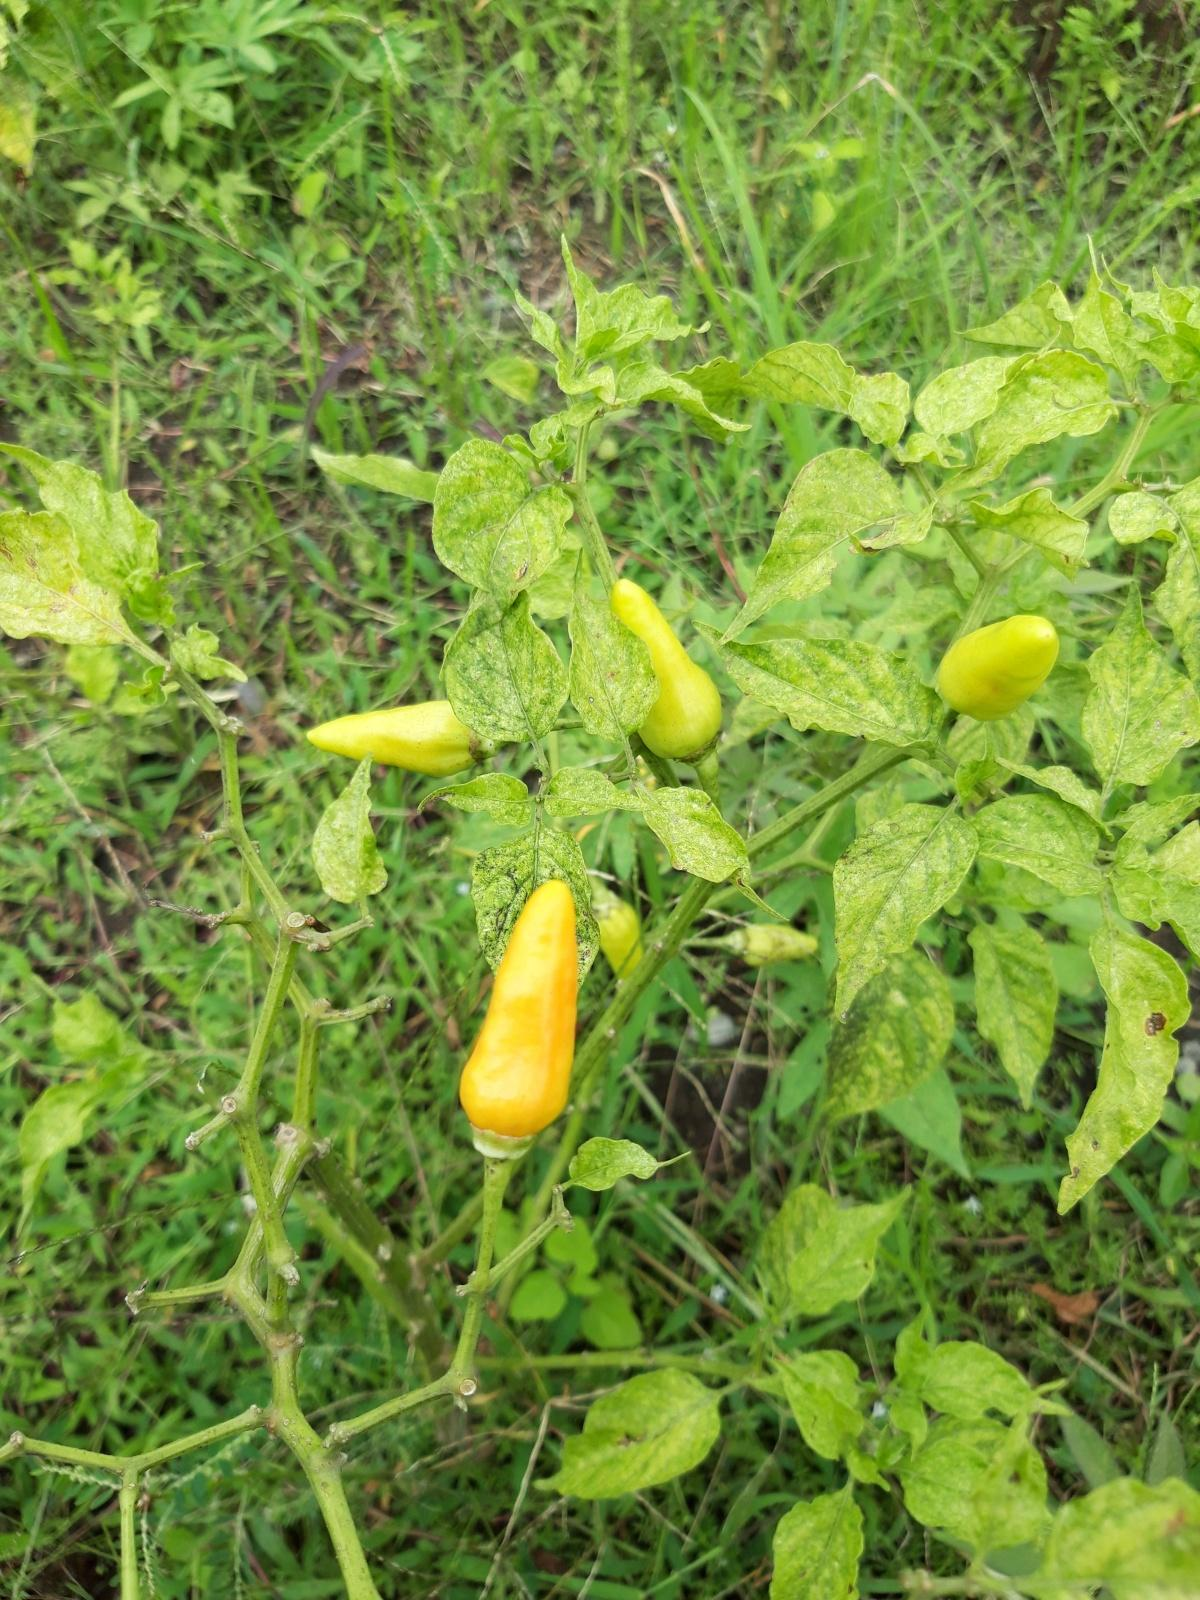cabai_normal: (460, 878, 579, 1144), (605, 577, 725, 763), (935, 615, 1063, 726), (305, 703, 483, 781), (590, 901, 645, 975), (745, 923, 818, 963)
